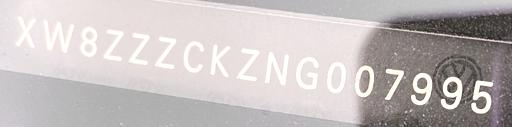letter: (42, 16, 74, 53), (262, 48, 290, 87), (293, 54, 321, 93), (234, 44, 260, 83), (409, 69, 435, 106), (469, 78, 495, 115), (352, 63, 376, 100), (14, 13, 38, 50), (102, 26, 126, 63), (207, 41, 231, 78), (439, 74, 463, 110), (324, 59, 348, 94), (154, 34, 176, 71), (183, 39, 205, 76), (382, 65, 404, 100), (128, 30, 150, 65), (79, 25, 99, 59)
